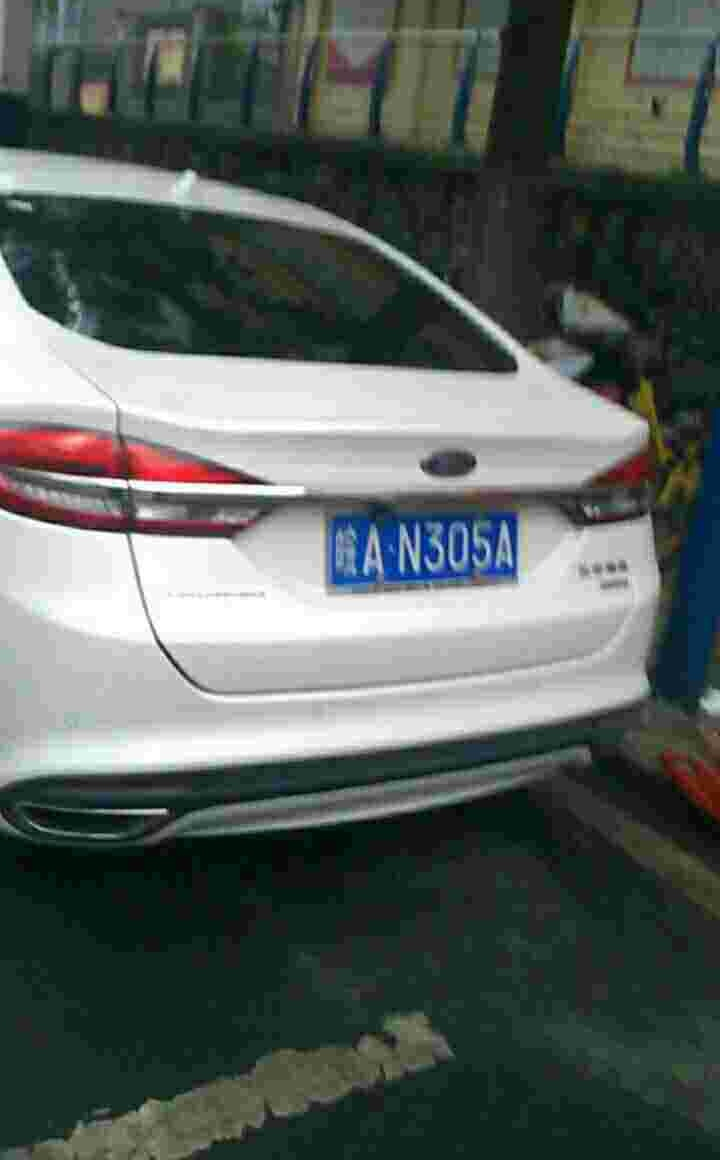license_plate: (329, 506, 525, 591)
